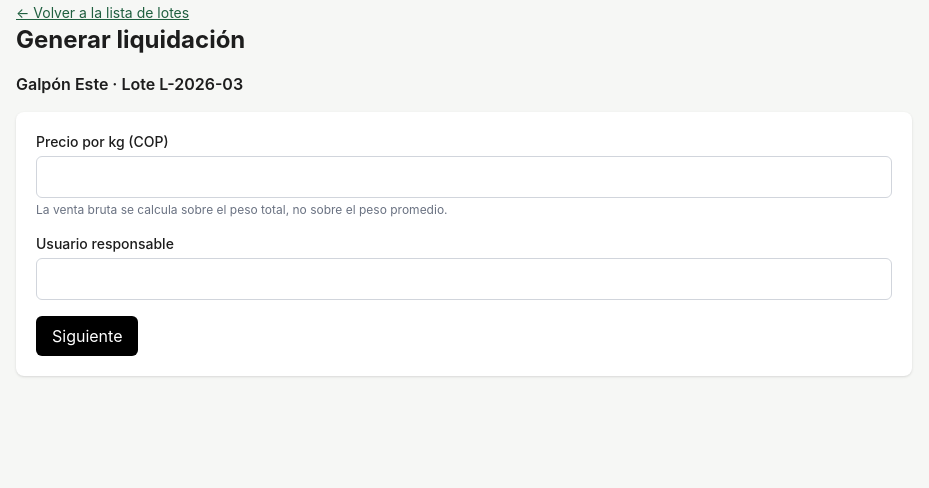
Scenario: GenerarLiquidacionPage › lista las partidas sin precio
Type "4500" into the number field labelled "Precio por kg (COP)". click: (464, 177)
box: [36,156,892,198]
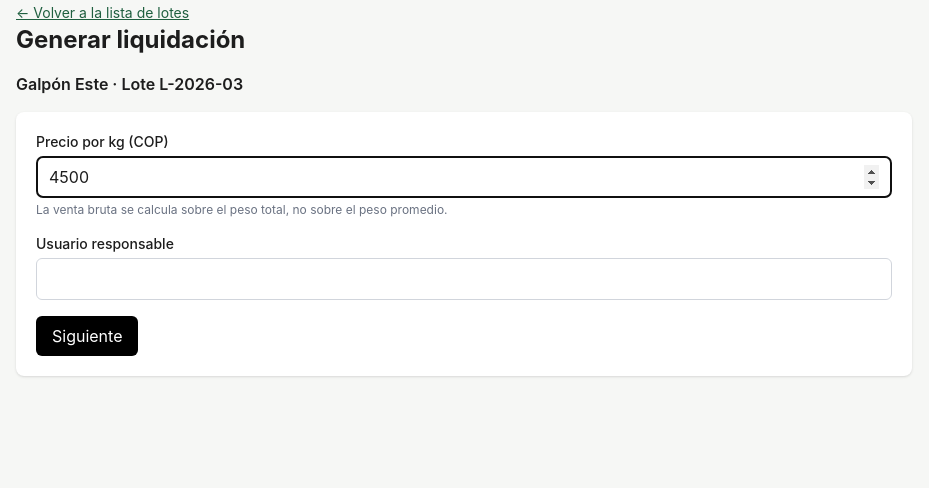
Click the button "Siguiente". click: (87, 336)
box: [36,316,138,356]
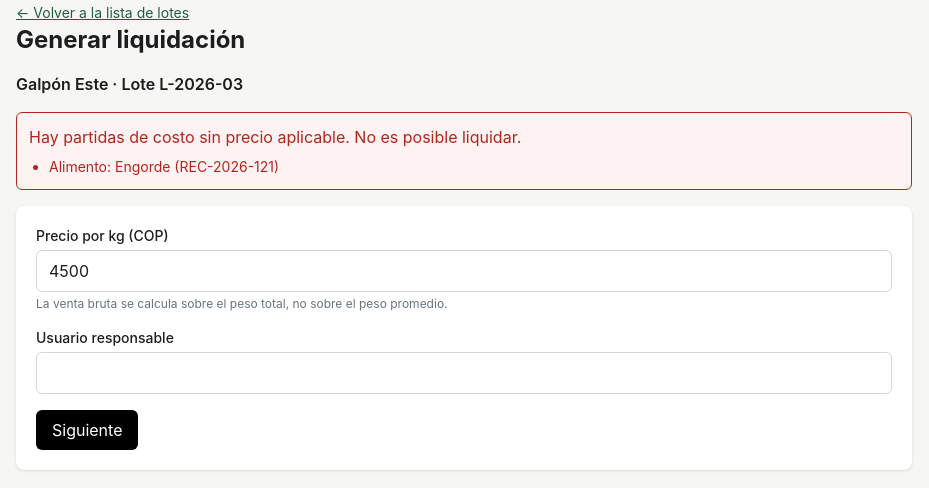
Expected: the message shows "Alimento: Engorde (REC-2026-121)", [16,112,912,190]
